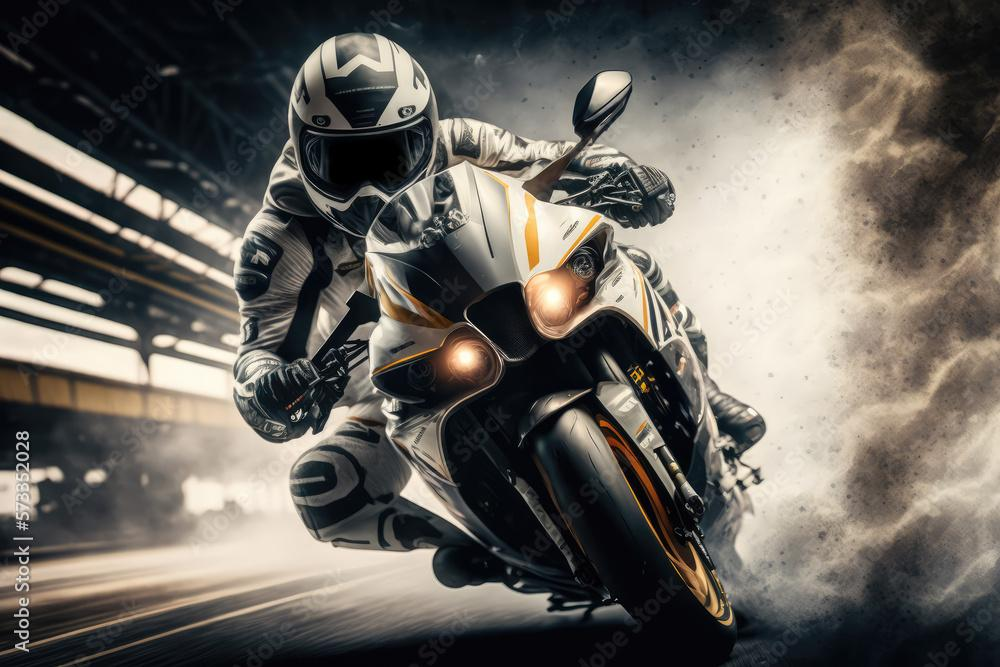helmet: (287, 31, 441, 242)
